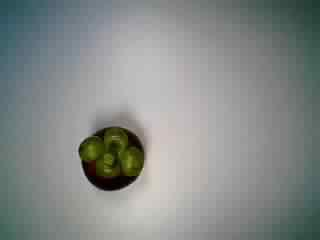mangosteen: (76, 120, 146, 194)
